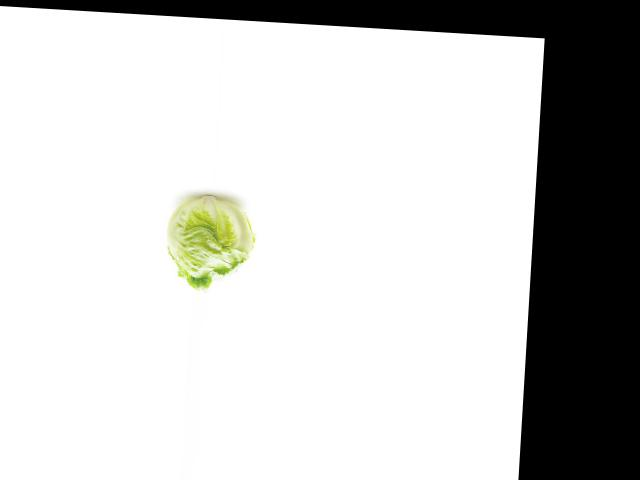lettuce: (160, 189, 265, 294)
